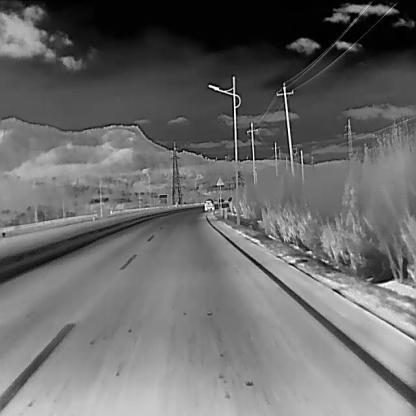car: (203, 198, 216, 211)
